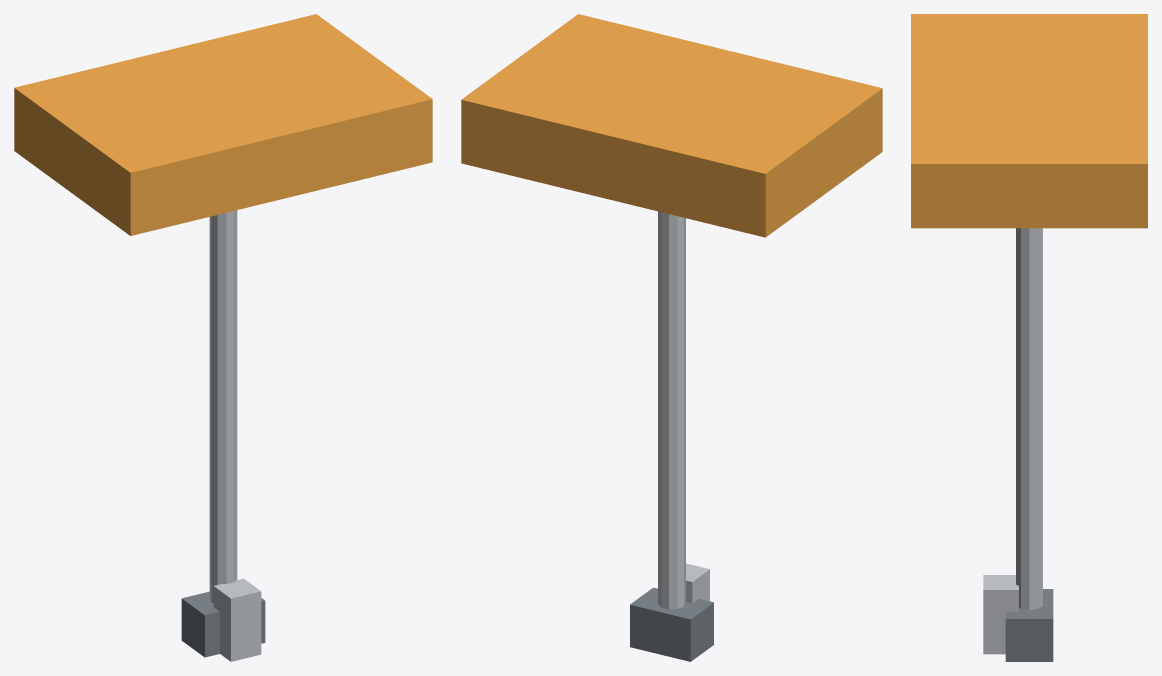
Rendered from mech-hangar-and-battle-frames-crane-trolley-8be98bd2__26931.glb.
3 renders of one model, left to right at view 1: azimuth 30°, elevation 25°; view 2: azimuth 150°, elevation 25°; view 3: azimuth 270°, elevation 25°, orthographic.
Visible parts, largest first — view 1: crane-trolley; view 2: crane-trolley; view 3: crane-trolley.
Boxes of the visible parts, x1=… form: crane-trolley: x1=14, y1=14, x2=432, y2=661; crane-trolley: x1=461, y1=14, x2=882, y2=661; crane-trolley: x1=911, y1=14, x2=1147, y2=661.
Bounding box in the file's own units: 1.5 × 2.6 × 1.
